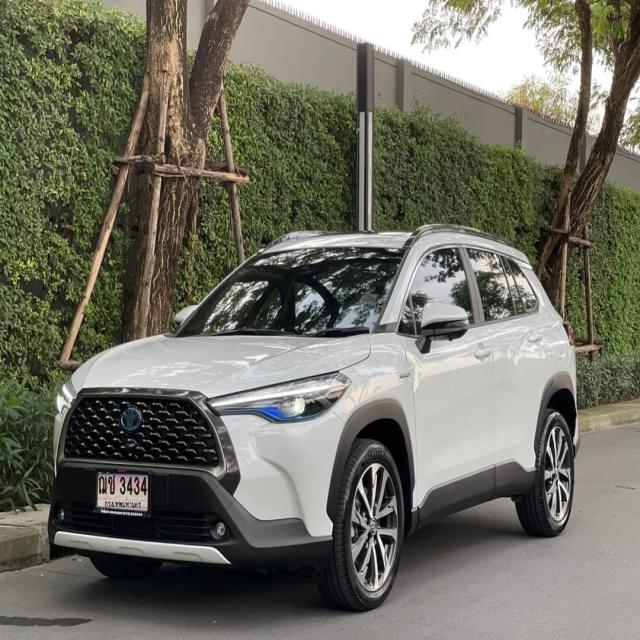license_plate: (94, 467, 152, 517)
